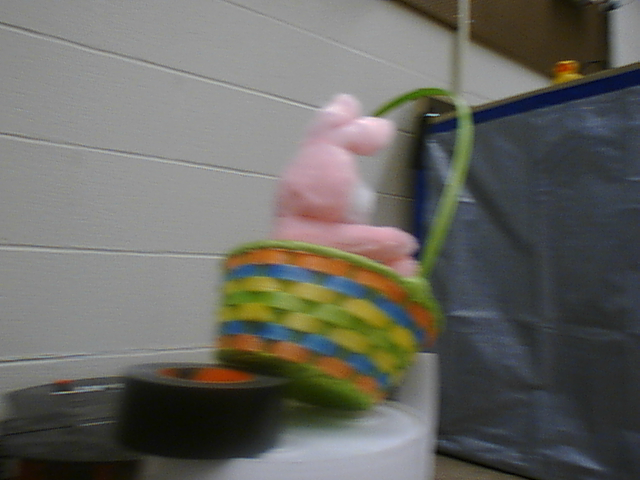bunny: (200, 82, 478, 420)
